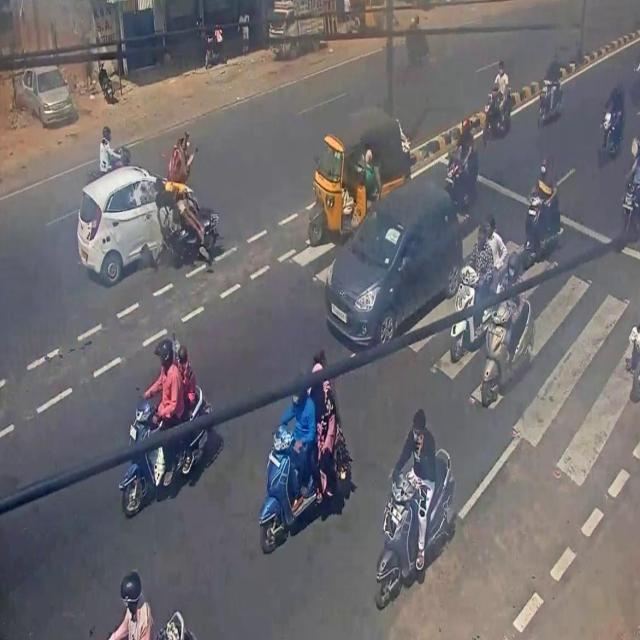accident: (66, 121, 226, 299)
non_accident: (299, 100, 476, 353), (442, 219, 534, 415)
